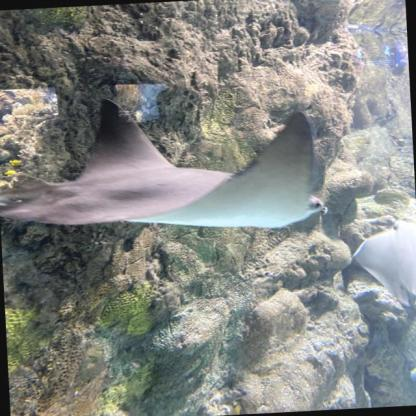stingray: (0, 86, 328, 244), (348, 216, 415, 315)
